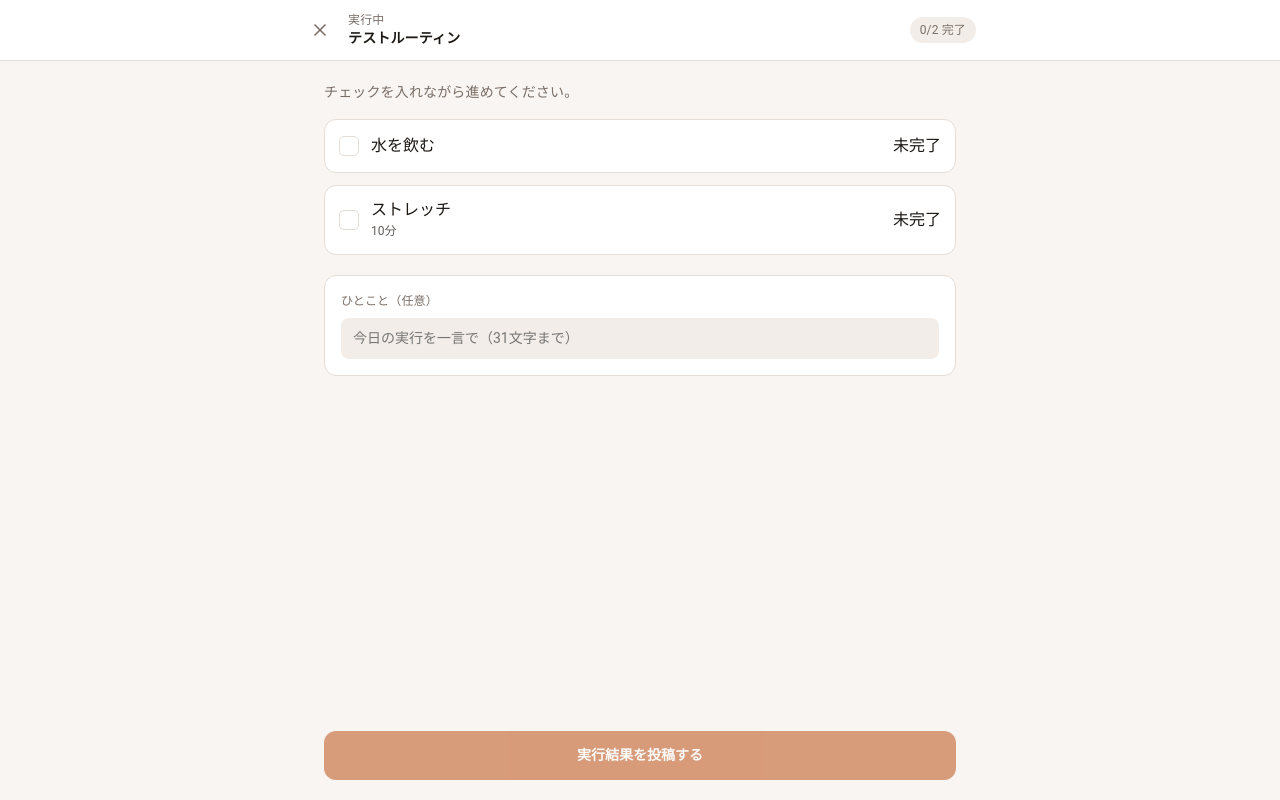
it: RoutineExecutionPage › 実施済みActionと任意メモを送信し、成功表示へ切り替える
The image size is (1280, 800).
Expected: the button "実行結果を投稿する" is shown, x1=324 y1=731 x2=956 y2=780
Click the button "水を飲む 未完了" at (403, 146), box x1=324 y1=119 x2=956 y2=173
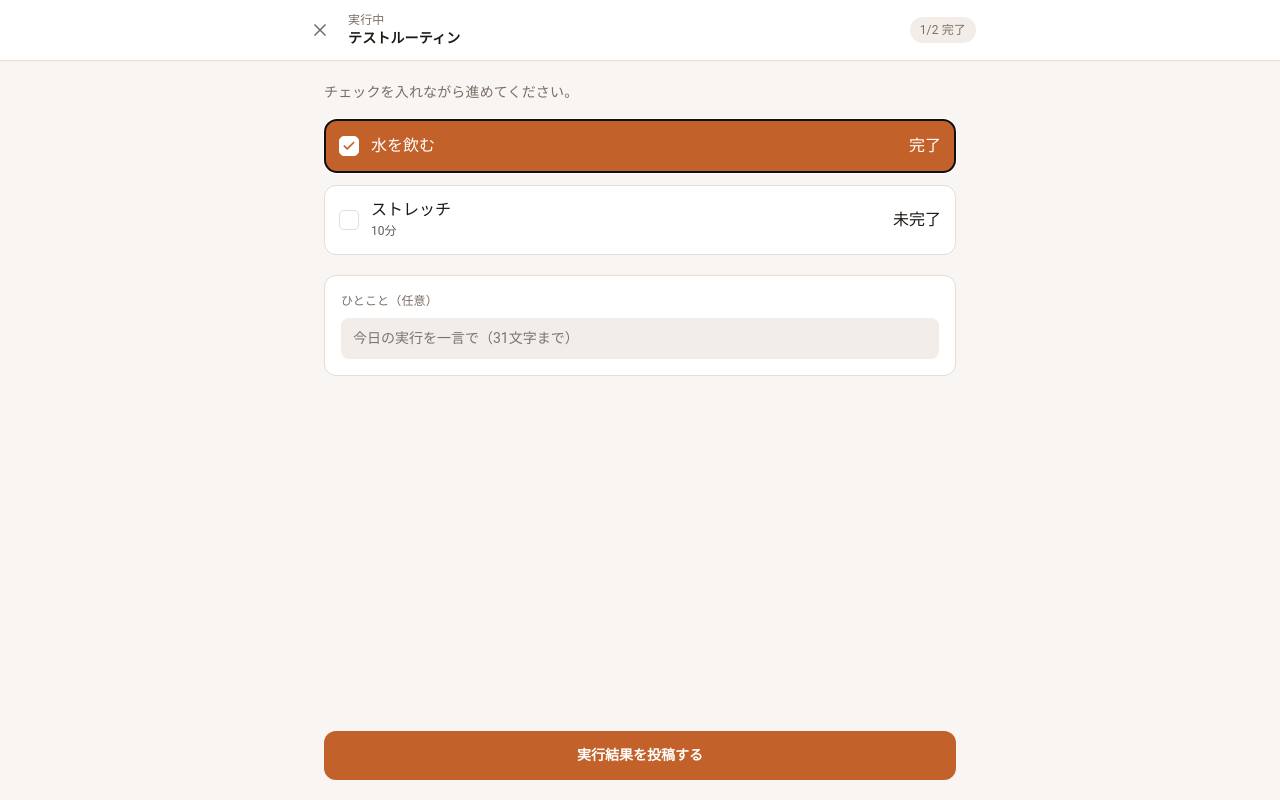
Expected: the text "1/2 完了" is shown, x1=910 y1=17 x2=976 y2=43
Type "今日も完了" into the field labelled "ひとこと（任意）" at (640, 338), box x1=341 y1=318 x2=939 y2=359
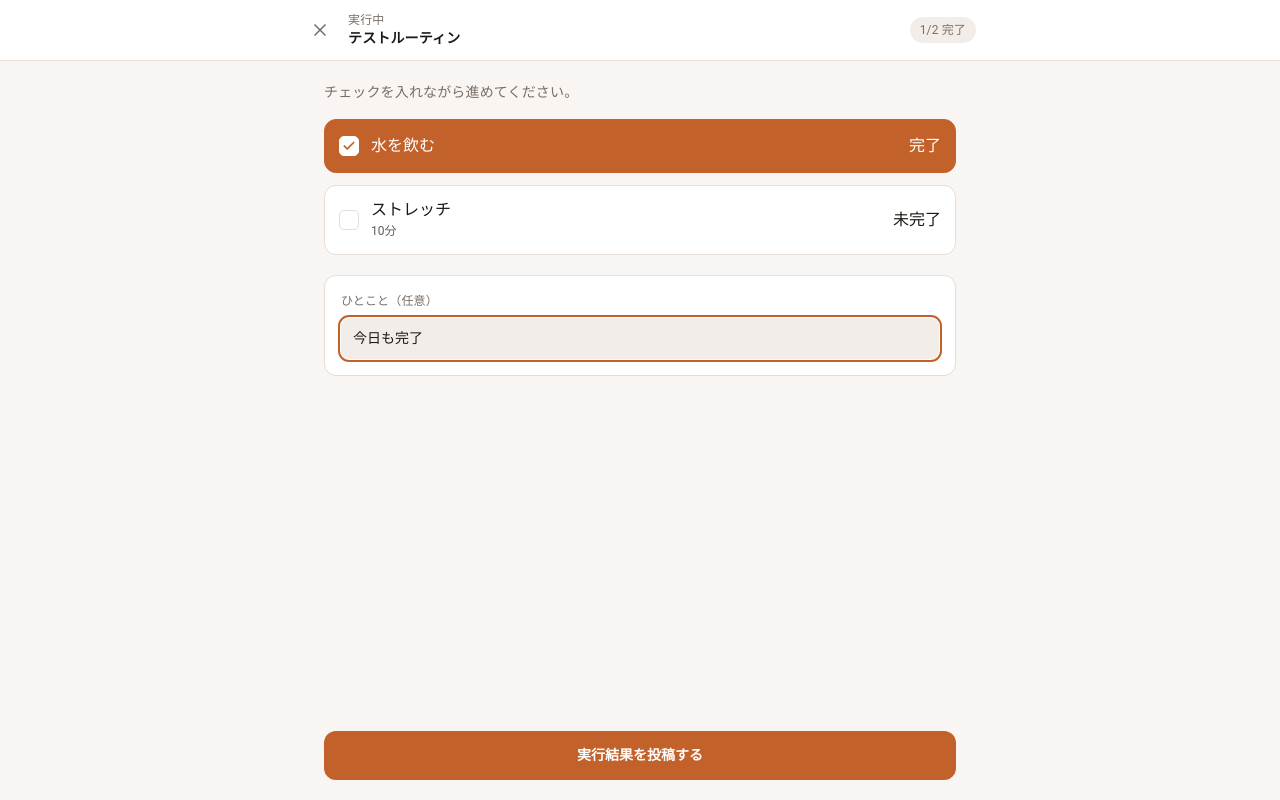
Click the button "実行結果を投稿する" at (640, 756), box x1=324 y1=731 x2=956 y2=780
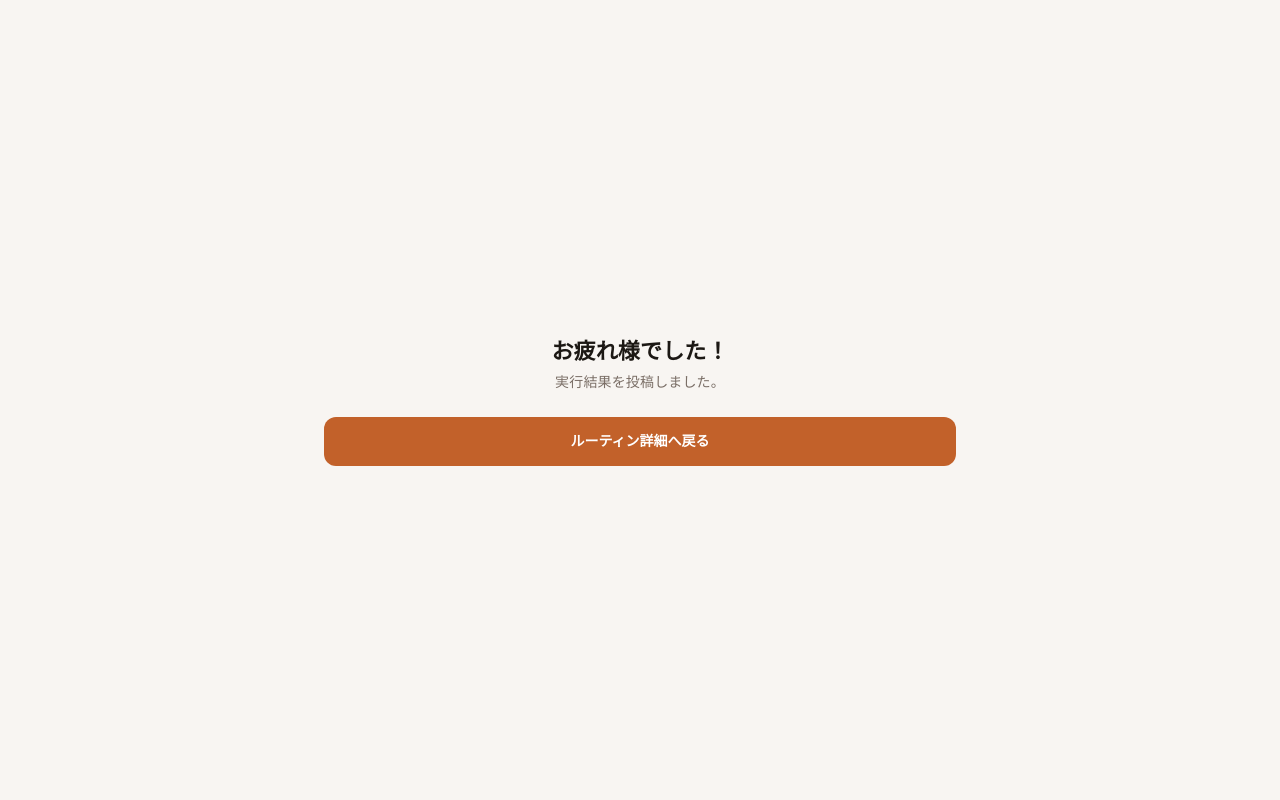
Expected: the heading "お疲れ様でした！" is shown, x1=551 y1=338 x2=729 y2=364
Expected: the text "実行結果を投稿しました。" is shown, x1=555 y1=374 x2=725 y2=390
